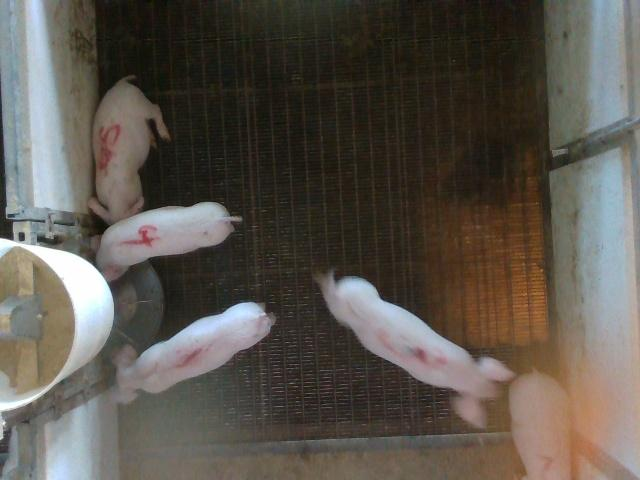pig-1: (115, 302, 275, 403)
pig-3: (315, 271, 514, 428)
pig-4: (96, 202, 240, 281)
pig-5: (89, 75, 170, 224)
